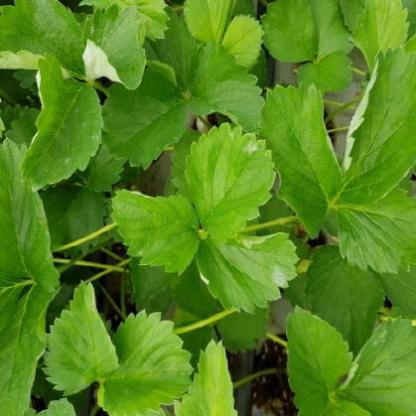Strawberry_Powdery_Mildew_Leaf: (334, 36, 416, 210), (256, 78, 344, 240), (17, 52, 105, 193), (183, 122, 278, 245), (195, 233, 300, 315), (108, 188, 203, 277), (334, 314, 416, 415), (0, 0, 88, 81), (81, 3, 147, 91)
